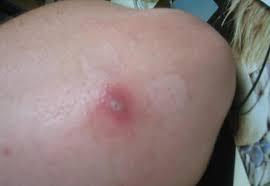Spider: (87, 81, 134, 136)
